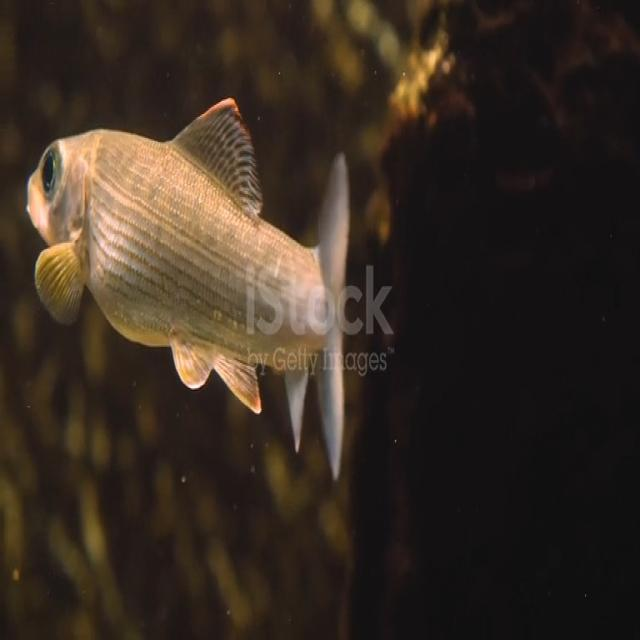fish: (22, 94, 357, 482)
